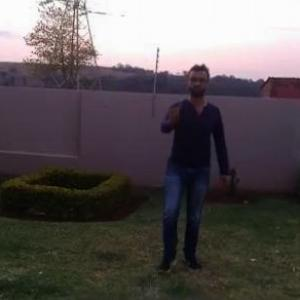takeoff-hand: (162, 94, 189, 128)
